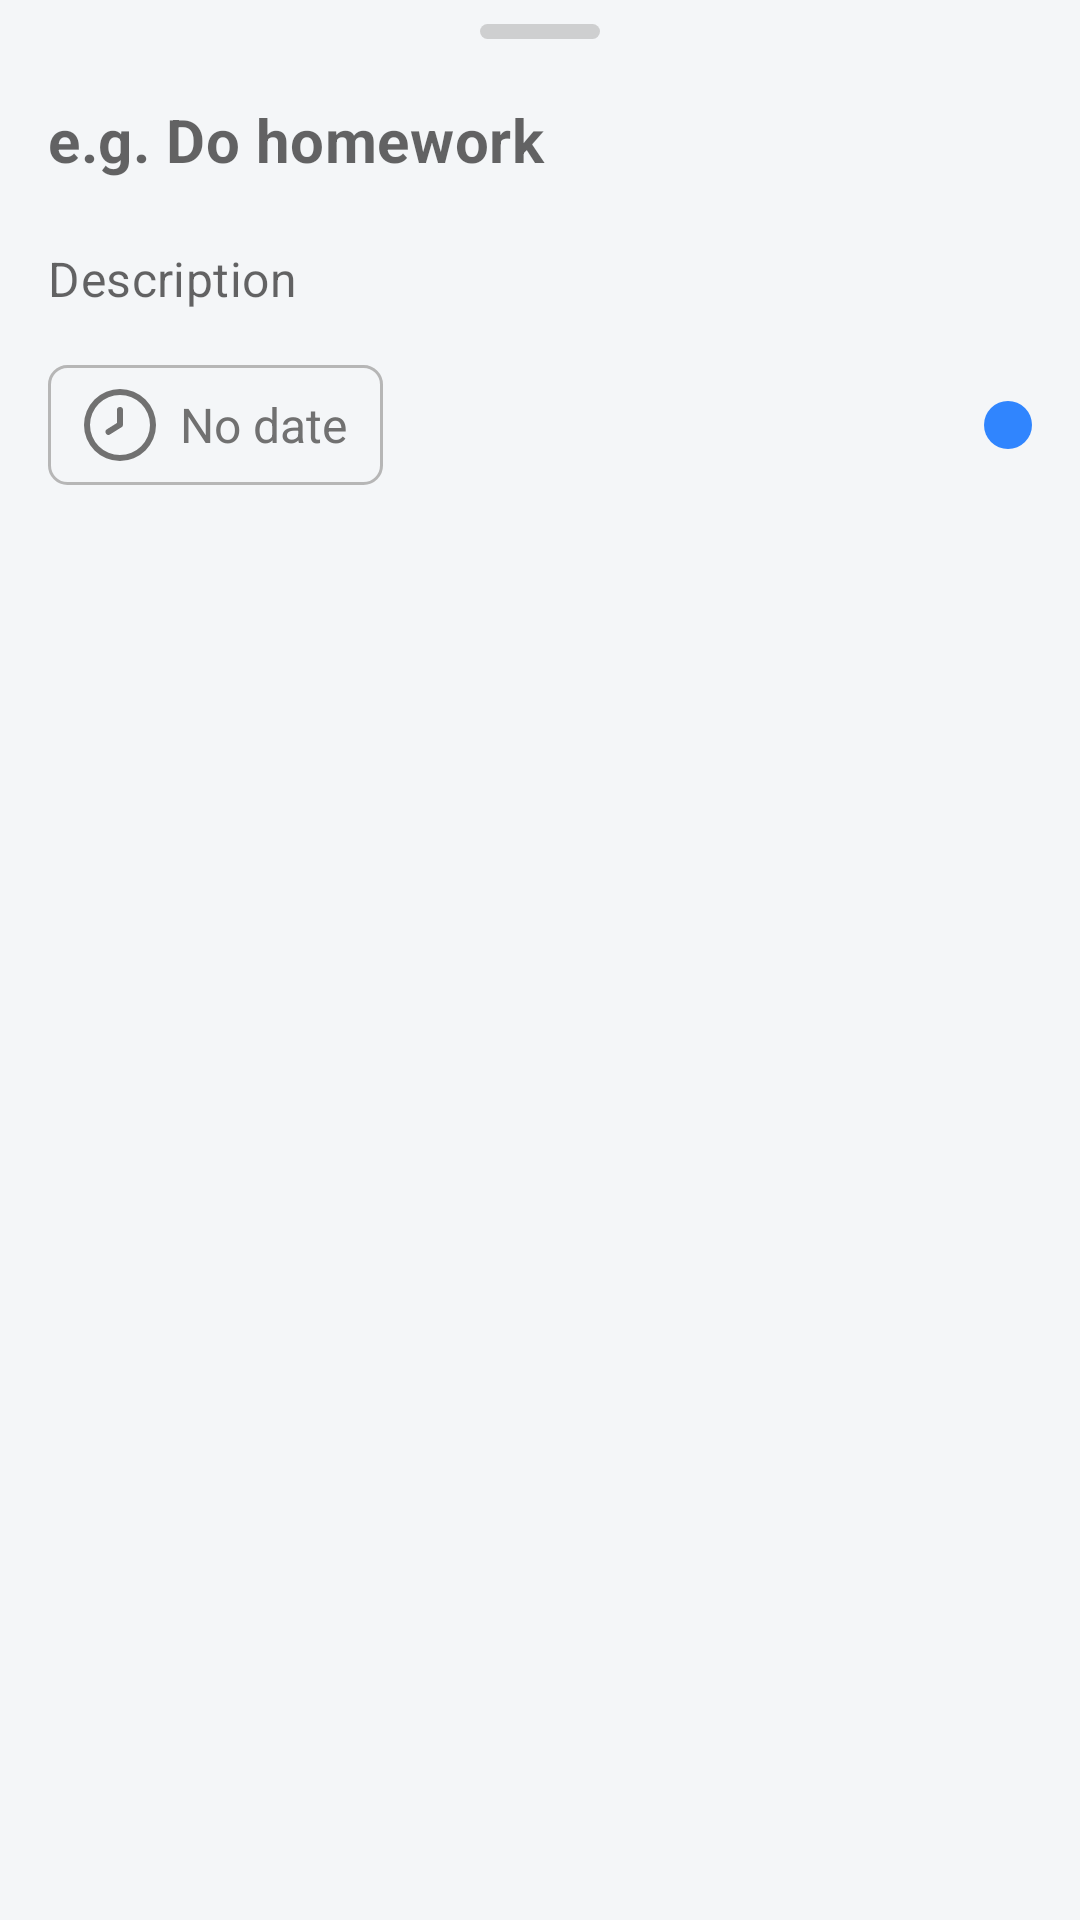

Locate icon controls on the screen. Image size 1080x1920, boxes as (x1,y1,x2,y2).
class time: (84,389,156,461)
